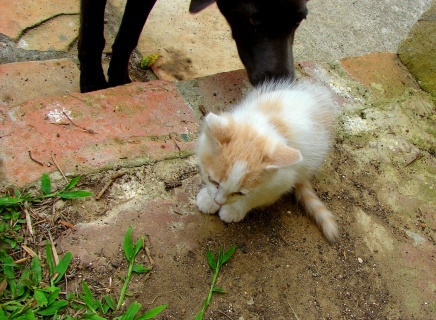Cat: (193, 75, 341, 245)
